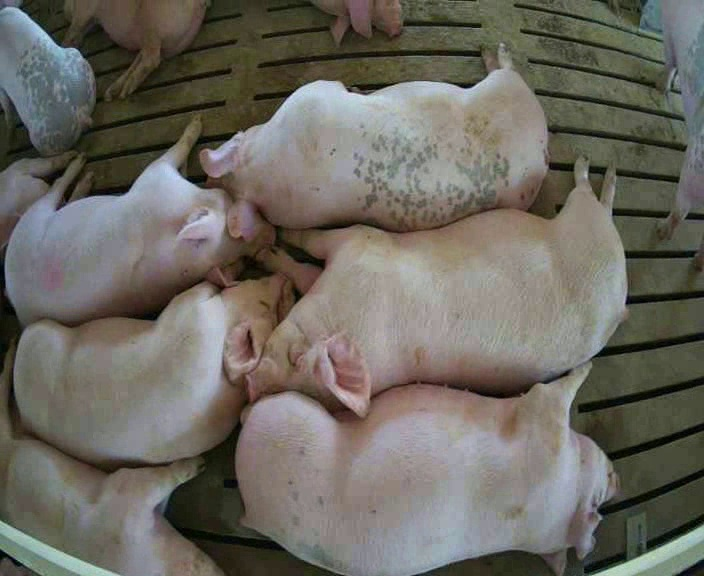pig: (248, 159, 625, 415), (200, 44, 547, 242), (5, 116, 275, 324), (63, 1, 206, 100)
